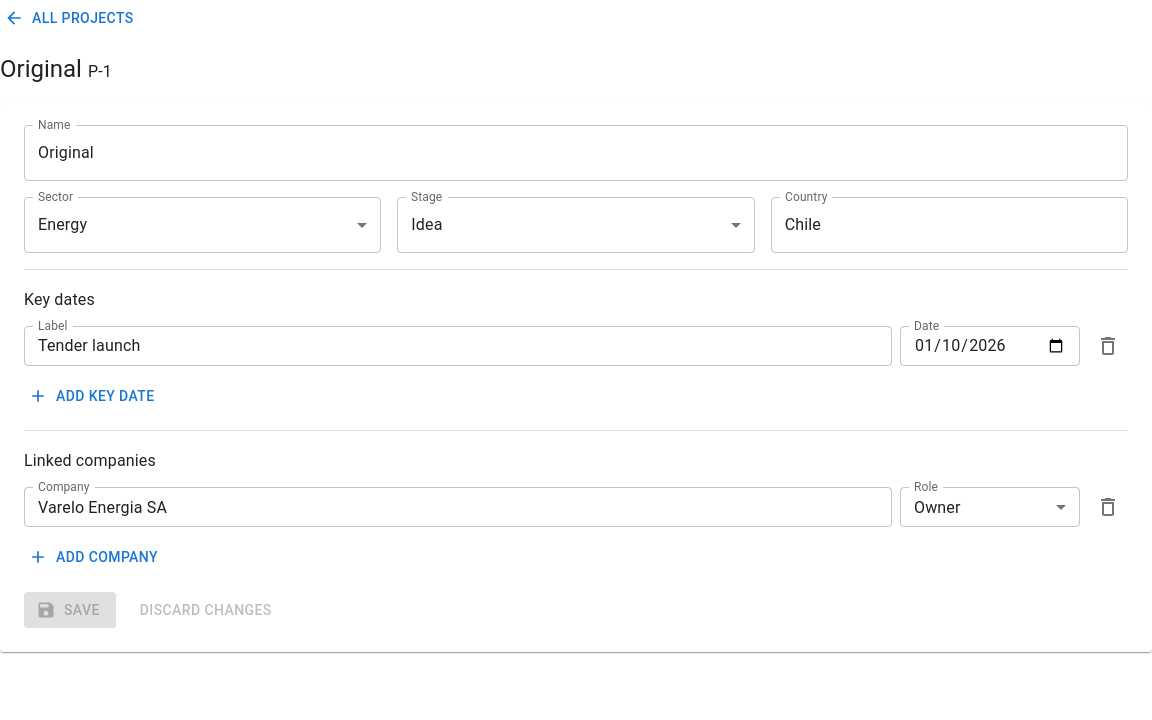
Test case: on a conflict, choosing mine resends against the current version
Replace the text in the field labelled "Name" with "Mine" at (576, 152), box [24, 124, 1128, 180]
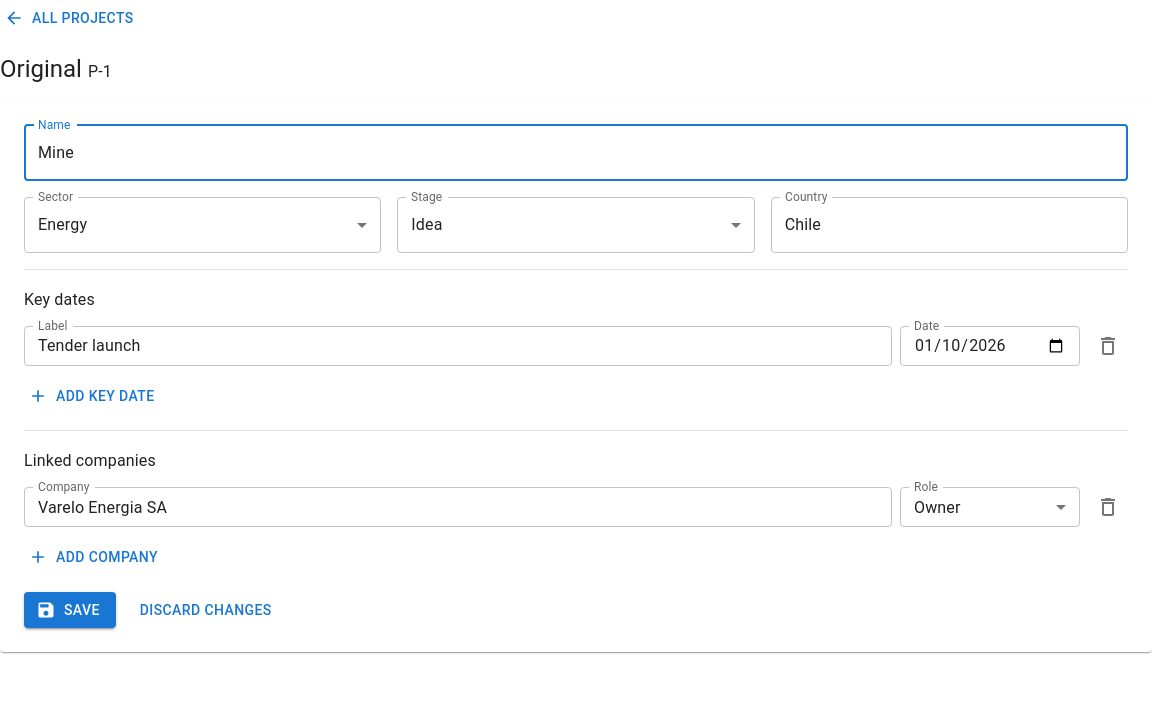
Click the button "Save" at (70, 610), box [24, 592, 116, 628]
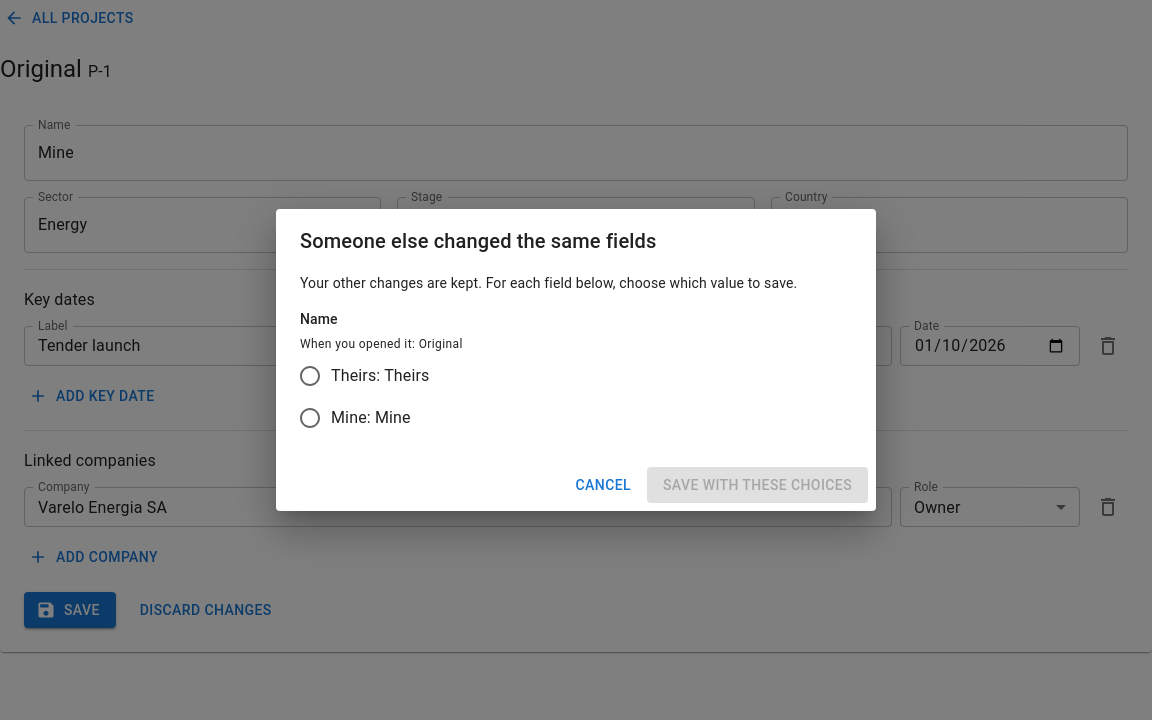
Click the radio button labelled "Mine: Mine" at (354, 418), box [298, 406, 411, 430]
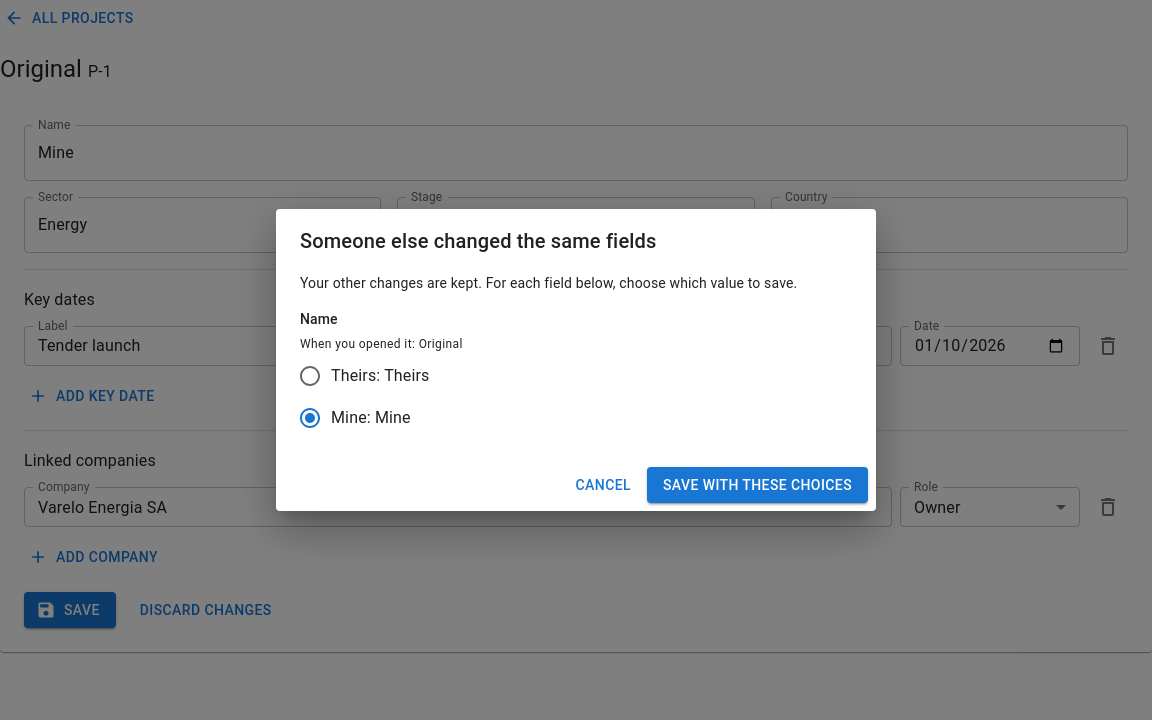
Click the button "Save with these choices" at (758, 485), box [647, 467, 868, 503]
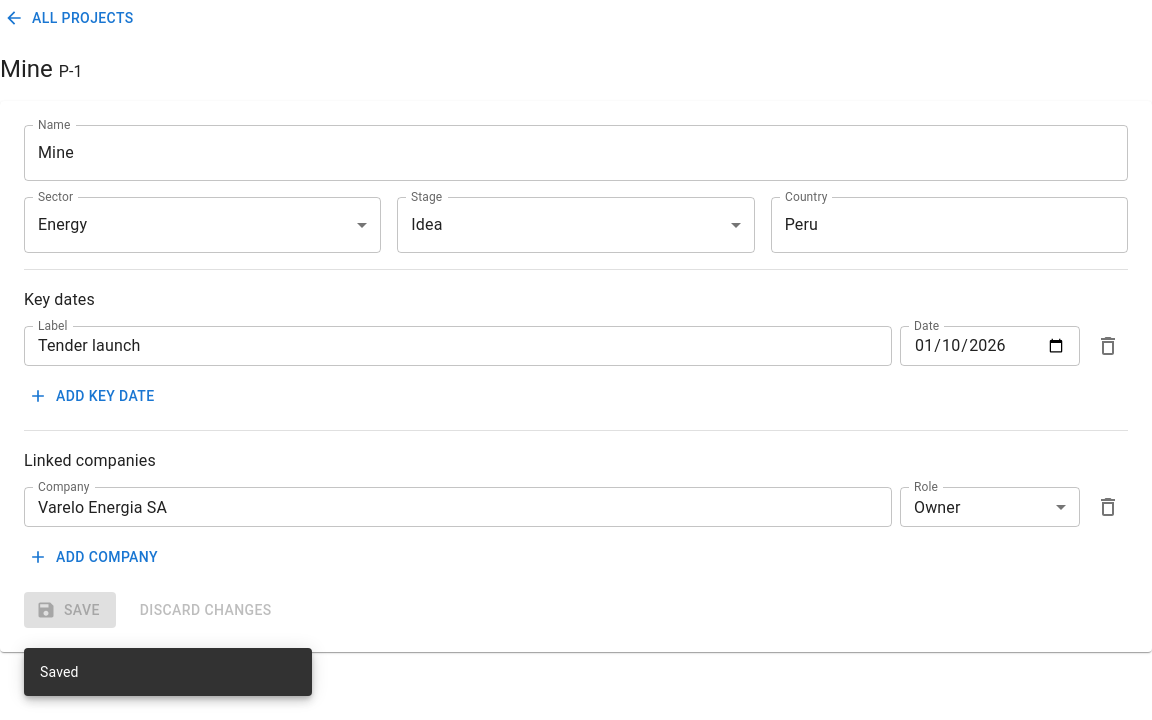
Check: the field showing "Peru" is shown, box [771, 196, 1128, 252]
